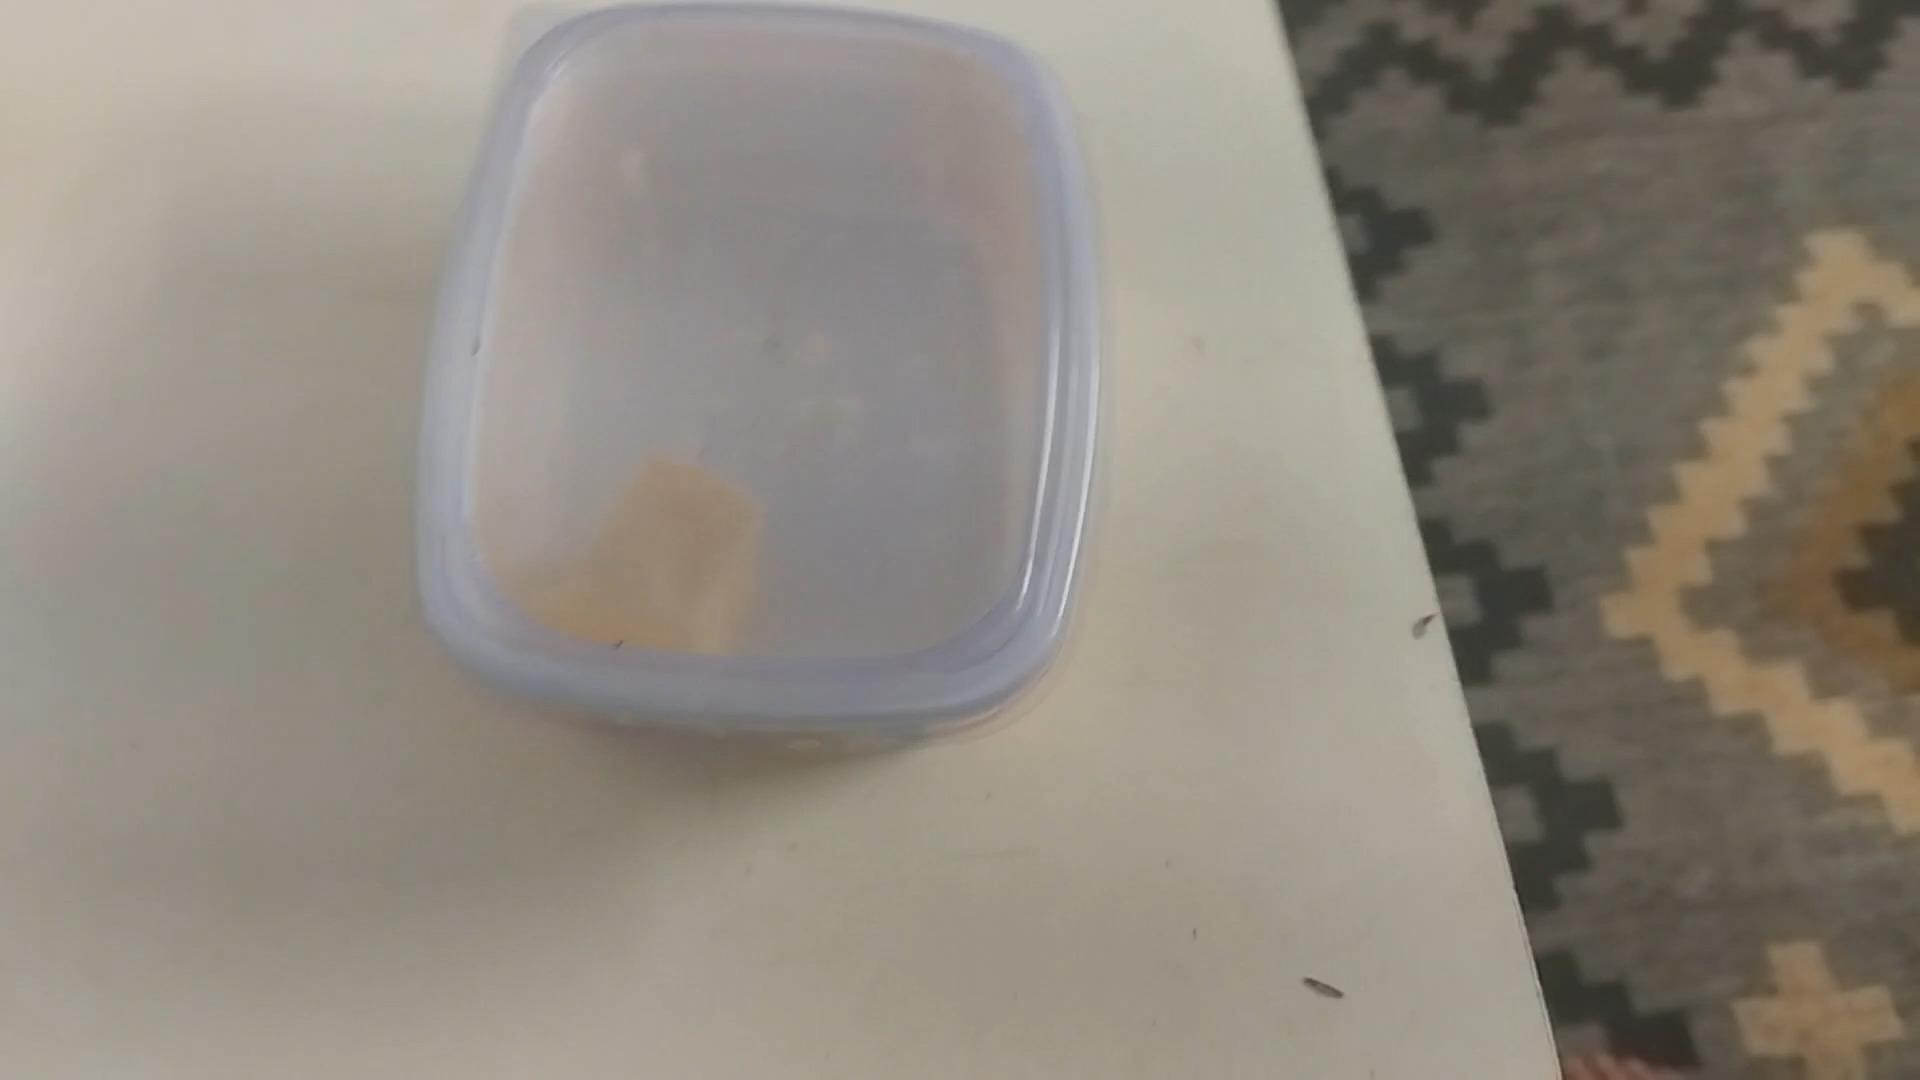butter: (414, 3, 1087, 749)
